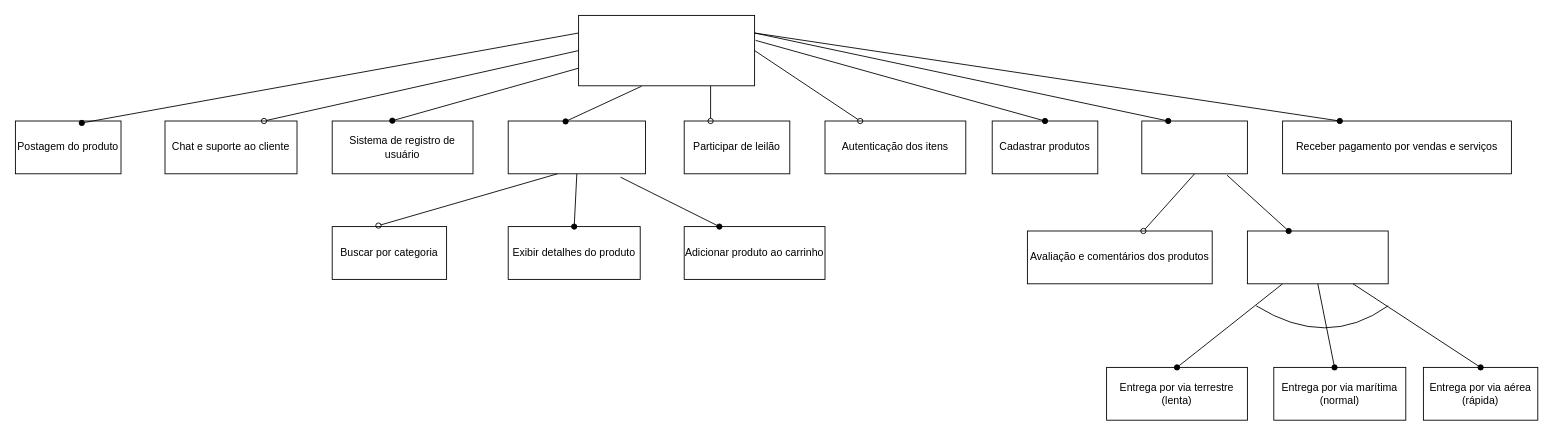
Some shapes in this 1553 by 436 pixel diagram are drawn without their labels. The shapes that lost their labels are listed below. From the top down, each one's centre as x and y in pixels, then its label:
At (666,50): "Sistema Corinto para compra e venda".
At (576,147): "Exibir catálogo de produtos".
At (1194,147): "Realizar pagamento".
At (1317,257): "Sistema de transporte".
